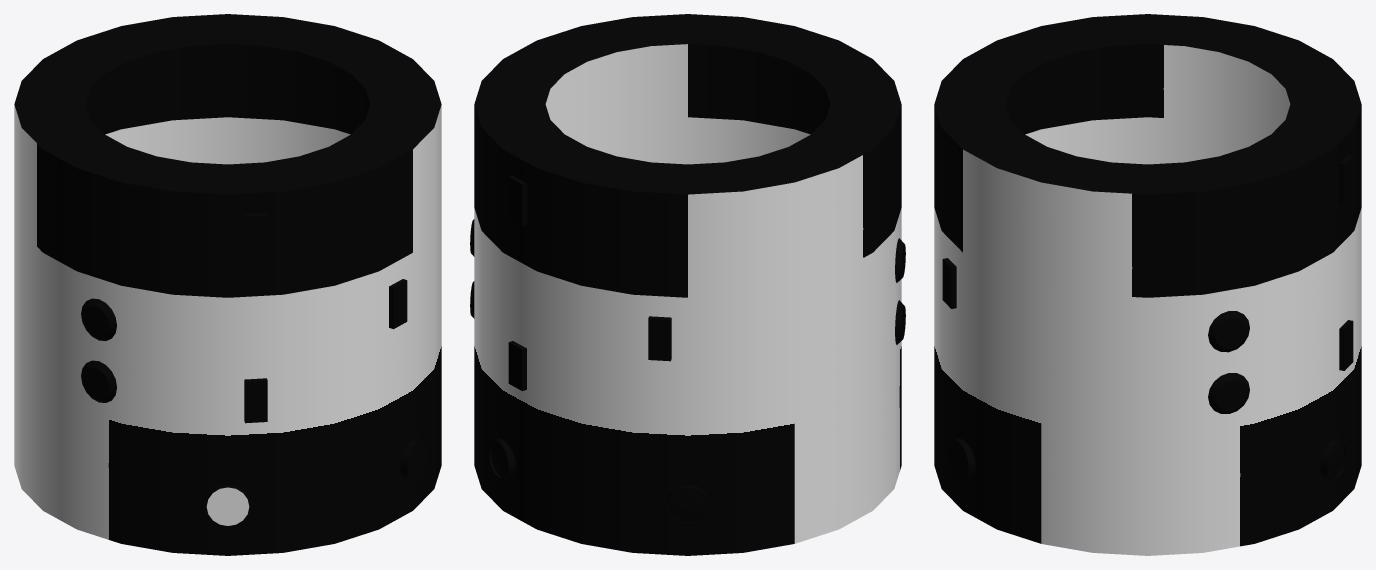
Rendered from hamal_cargo_module_s1_1_ex.obj.
The picture shows the model from 3 angles, left to right: view 1: azimuth 30°, elevation 25°; view 2: azimuth 150°, elevation 25°; view 3: azimuth 270°, elevation 25°; orthographic projection.
Visible parts, largest first — view 1: 2; view 2: 2, w2; view 3: 2.
Boxes of the visible parts, box(x1,y1,x2,y2) form: 2: box(14, 14, 441, 555); 2: box(470, 14, 905, 555); w2: box(491, 442, 706, 522); 2: box(934, 14, 1361, 555).
Bounding box in the file's own units: 1.88 × 2 × 1.88.
